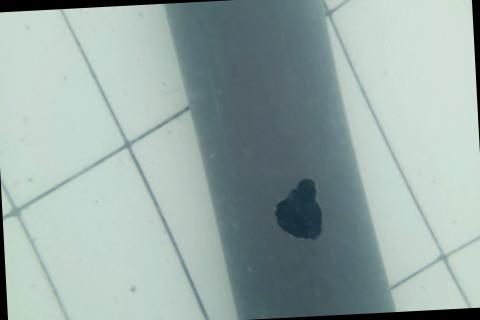kebocoran: (271, 174, 326, 244)
